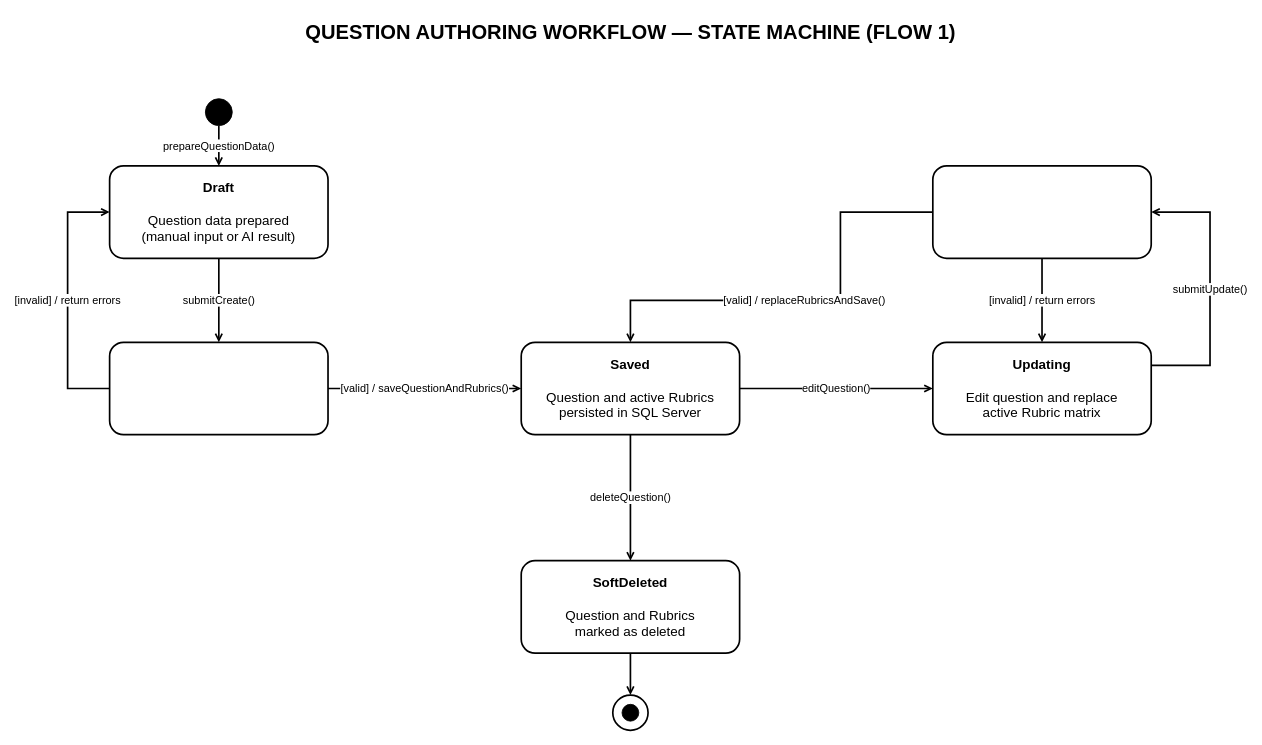
The diagram is 1262 pixels wide and 745 high, and some of its shapes have lost their labels. Here are the shapes that lost their labels. From the top down, the centre of each, then its label:
At point (1042, 212): "Validating (Update) Validate revised question and replacement Rubrics".
At point (218, 388): "Validating (Create) Validate question and Rubrics Total Rubric weight = 100%".
